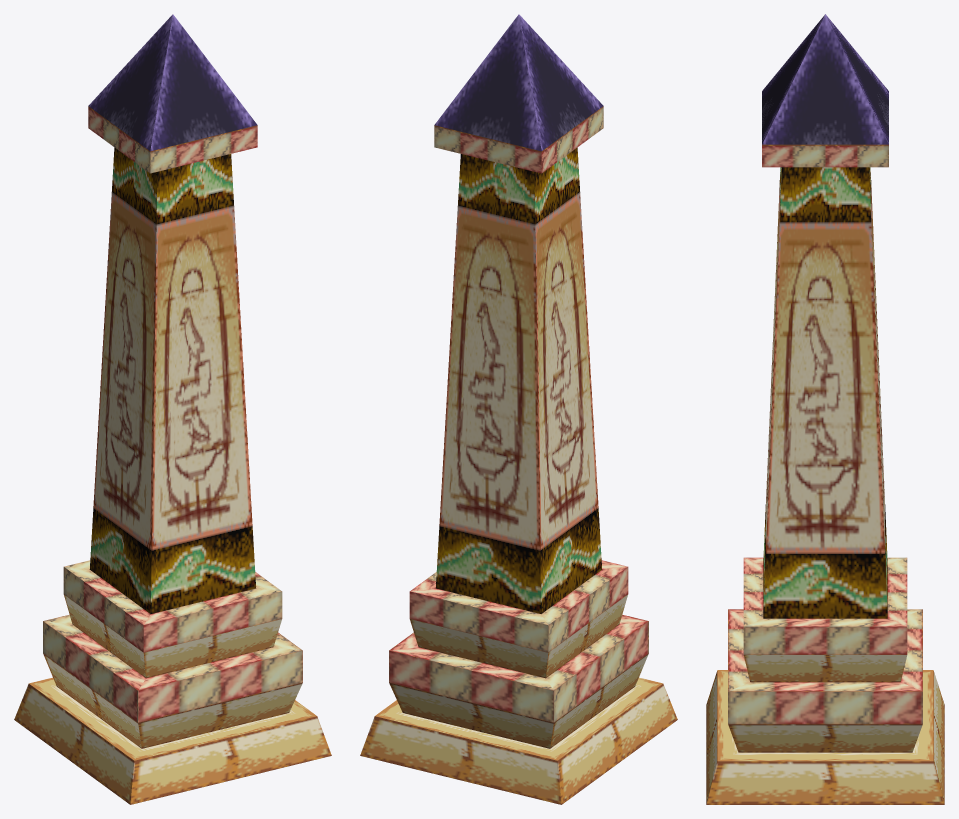
The model's file is obelisk.glb.
The picture shows the model from 3 angles, left to right: view 1: azimuth 30°, elevation 25°; view 2: azimuth 150°, elevation 25°; view 3: azimuth 270°, elevation 25°; orthographic projection. The views are drawn at different scales.
Parts seen in each view (by area): view 1: Cube; view 2: Cube; view 3: Cube.
Part boxes in pixels (x1,y1,x2,y2): Cube: (14,14,331,804); Cube: (360,14,677,804); Cube: (706,14,944,804).
Size of the model in its own units: 2.2 by 7.56 by 2.2.
Materials: 1 (1 with a texture image).
